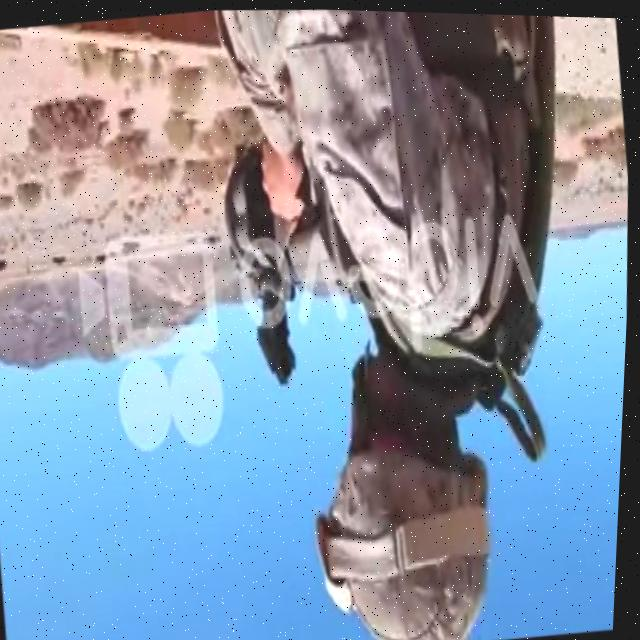rocket: (203, 134, 374, 391)
